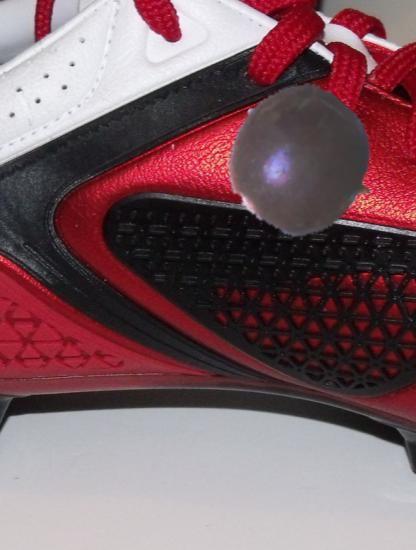Passion: (227, 88, 377, 238)
